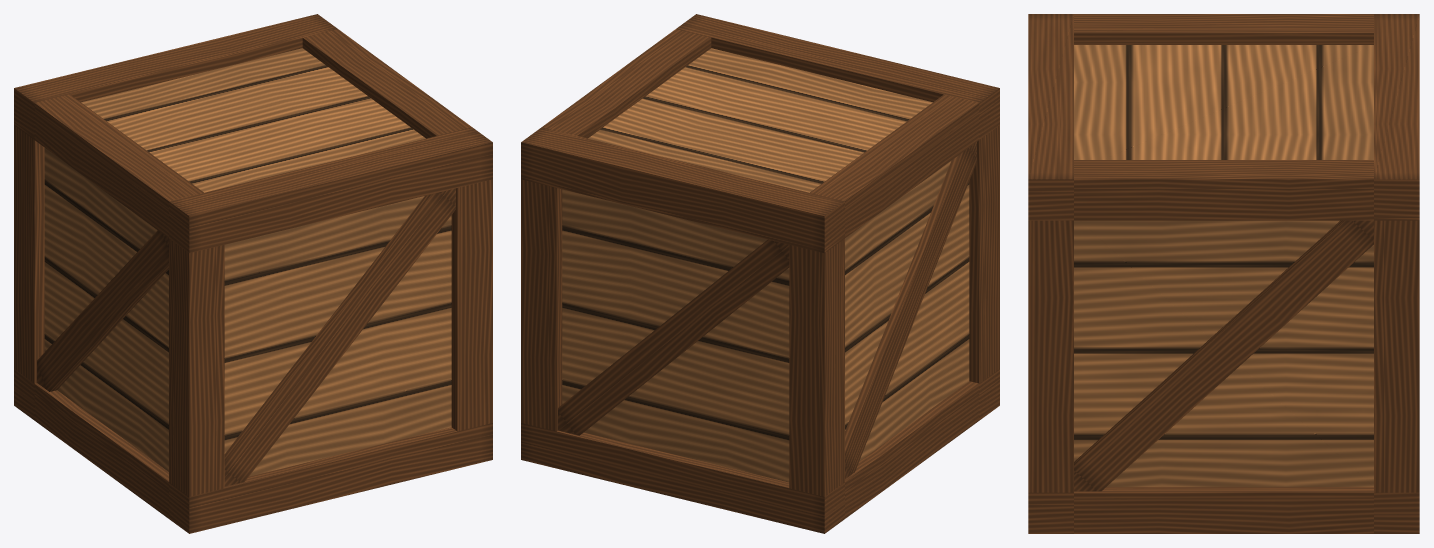
The model's file is crate.glb.
3 renders of one model, left to right at view 1: azimuth 30°, elevation 25°; view 2: azimuth 150°, elevation 25°; view 3: azimuth 270°, elevation 25°, orthographic. The views are drawn at different scales.
Parts seen in each view (by area): view 1: crate; view 2: crate; view 3: crate.
Boxes of the visible parts, left/top/right/bottom form: crate: left=14, top=14, right=492, bottom=533; crate: left=521, top=14, right=999, bottom=533; crate: left=1028, top=14, right=1419, bottom=533.
Bounding box in the file's own units: 0.6 × 0.6 × 0.6.
Materials: 1 (1 with a texture image).
